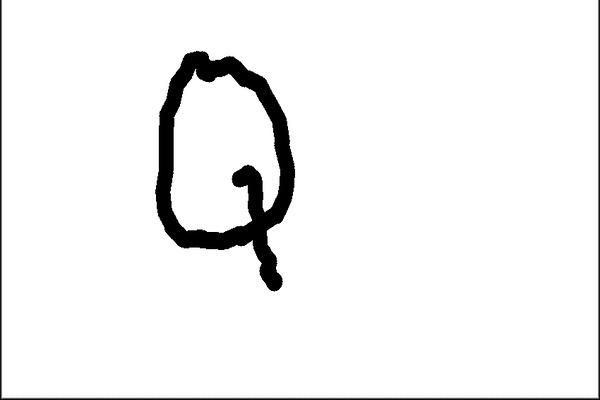Q: (132, 41, 315, 301)
